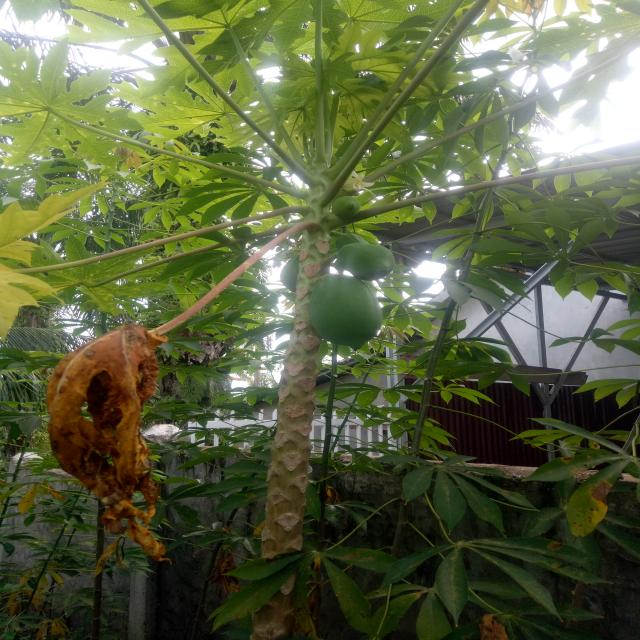Pepaya unrippen: (304, 271, 385, 351), (331, 241, 400, 281)
